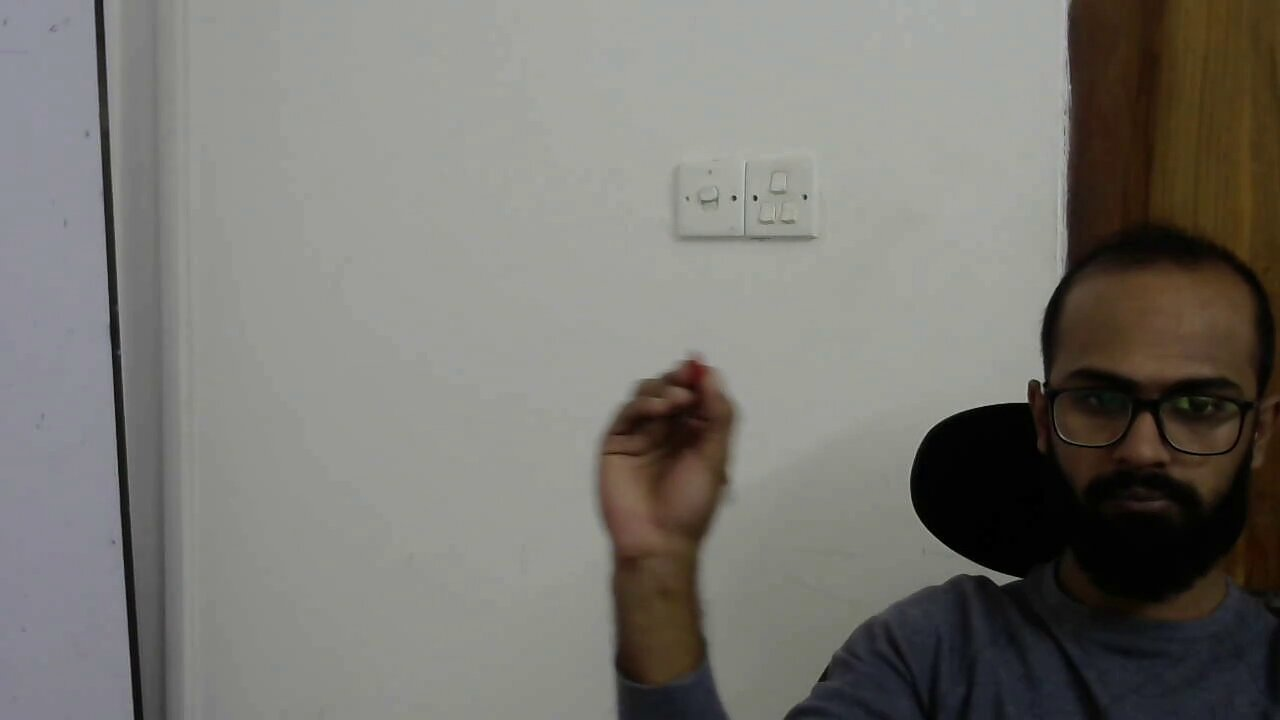pointer: (599, 353, 738, 512)
